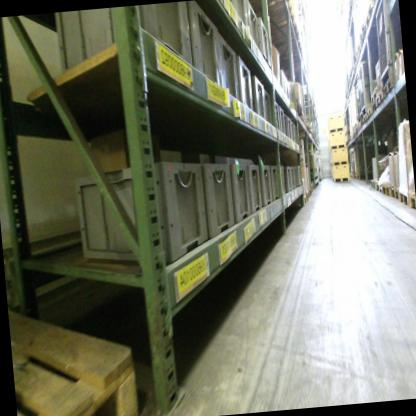pallet: (9, 303, 138, 416), (383, 73, 395, 100), (398, 189, 410, 209), (374, 88, 384, 107), (381, 182, 391, 196), (409, 191, 416, 210), (370, 91, 378, 104), (391, 187, 398, 199), (372, 101, 379, 112), (366, 107, 373, 117), (363, 113, 368, 122)
stillage: (374, 0, 404, 75), (358, 62, 372, 117), (357, 76, 364, 119), (355, 82, 361, 122)
